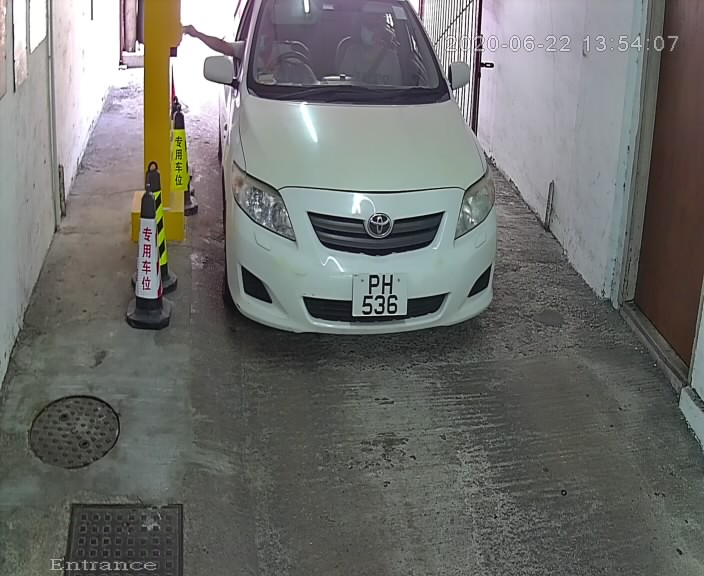privatecar: (185, 1, 511, 358)
